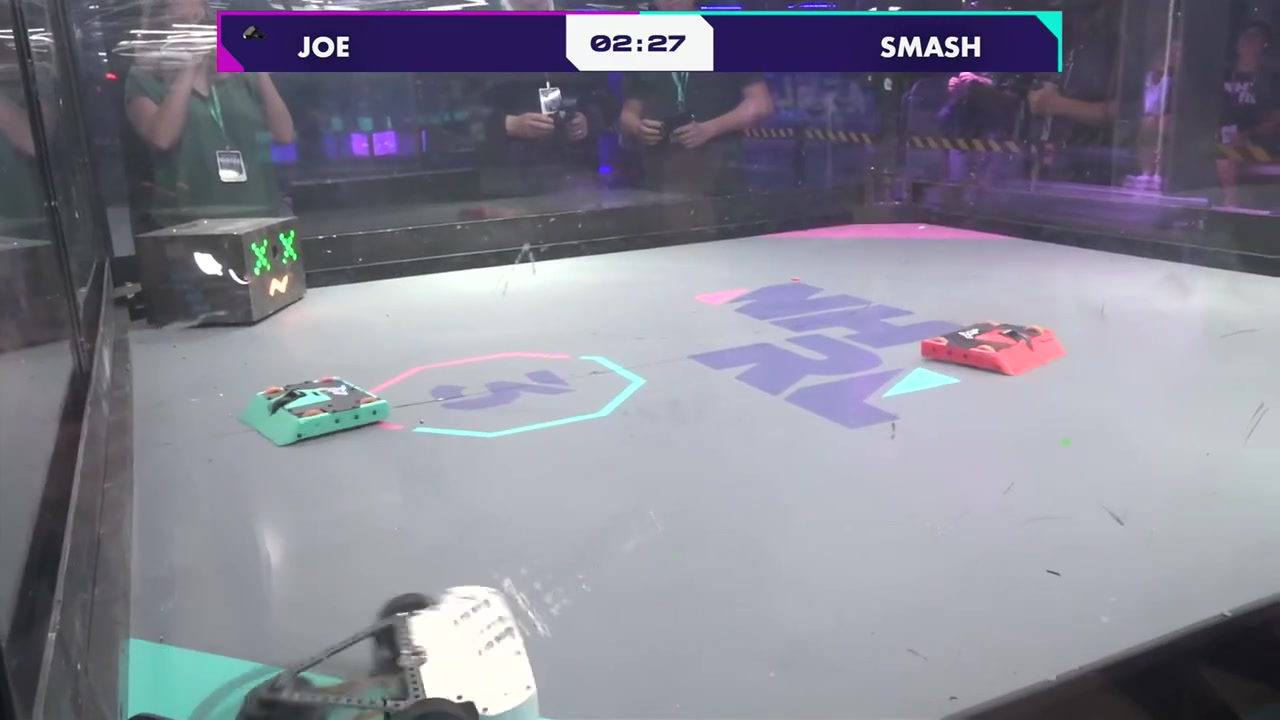combatbot: (182, 582, 544, 719), (241, 377, 391, 446), (918, 320, 1066, 380)
housebot: (135, 213, 308, 334), (0, 231, 72, 365)
